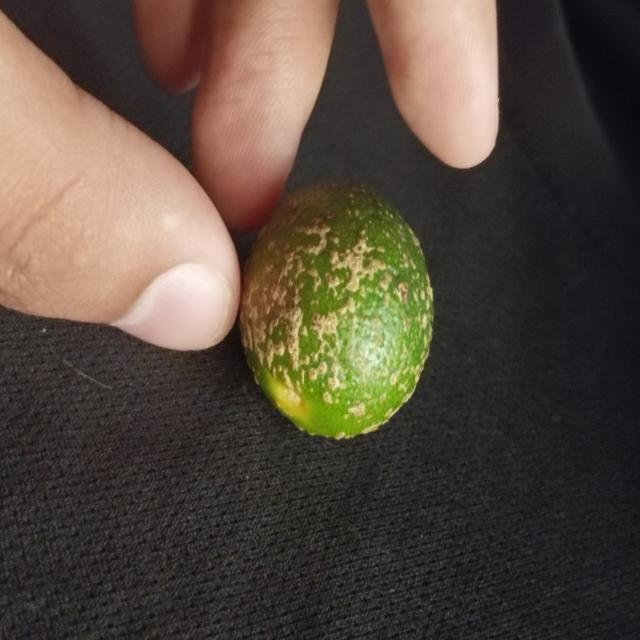scab: (232, 172, 434, 442)
